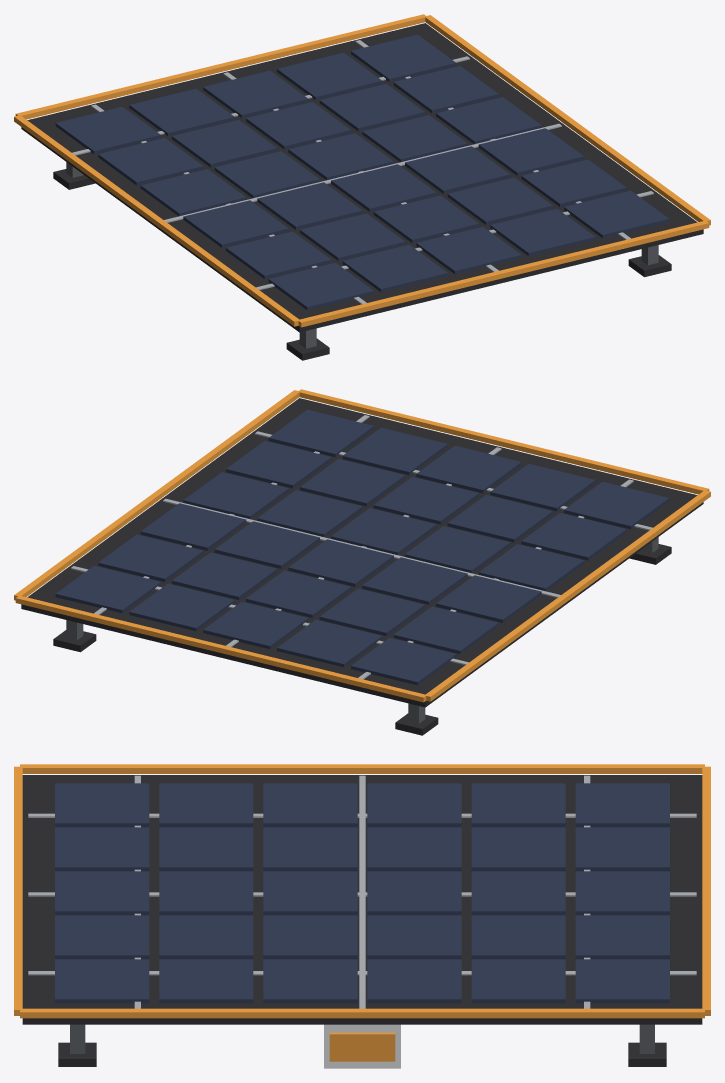
File: SM_PWR1_SolarArray.fbx
The picture shows the model from 3 angles, top to bottom: view 1: azimuth 30°, elevation 25°; view 2: azimuth 150°, elevation 25°; view 3: azimuth 270°, elevation 25°; orthographic projection. The views are drawn at different scales.
Visible parts, largest first — view 1: SM_PWR1_SolarArray; view 2: SM_PWR1_SolarArray; view 3: SM_PWR1_SolarArray.
Boxes of the visible parts, left/top/right/bottom form: SM_PWR1_SolarArray: left=14, top=14, right=710, bottom=360; SM_PWR1_SolarArray: left=14, top=389, right=710, bottom=735; SM_PWR1_SolarArray: left=14, top=764, right=710, bottom=1068.
Bounding box in the file's own units: 10.72 × 1.38 × 12.72.
